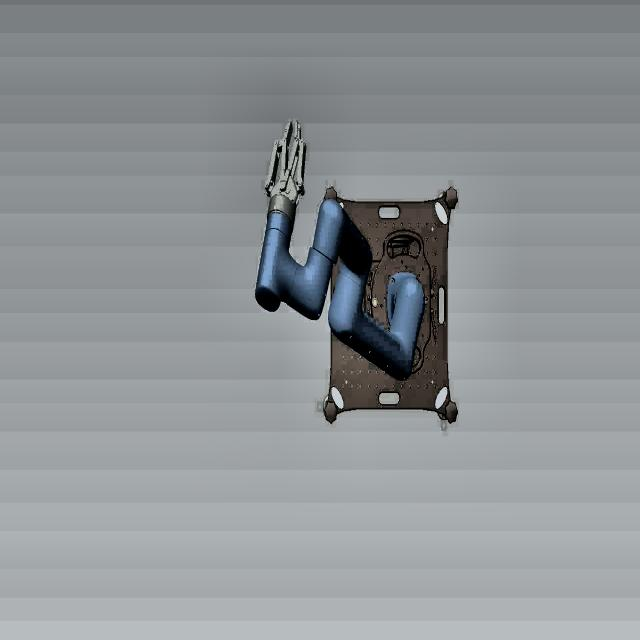robot: (255, 118, 430, 398)
